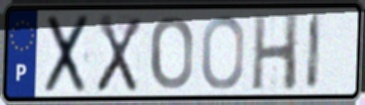H: (249, 10, 302, 93)
I: (304, 10, 324, 93)
O: (199, 13, 247, 92), (148, 14, 195, 92)
X: (94, 12, 145, 95), (42, 12, 92, 96)
